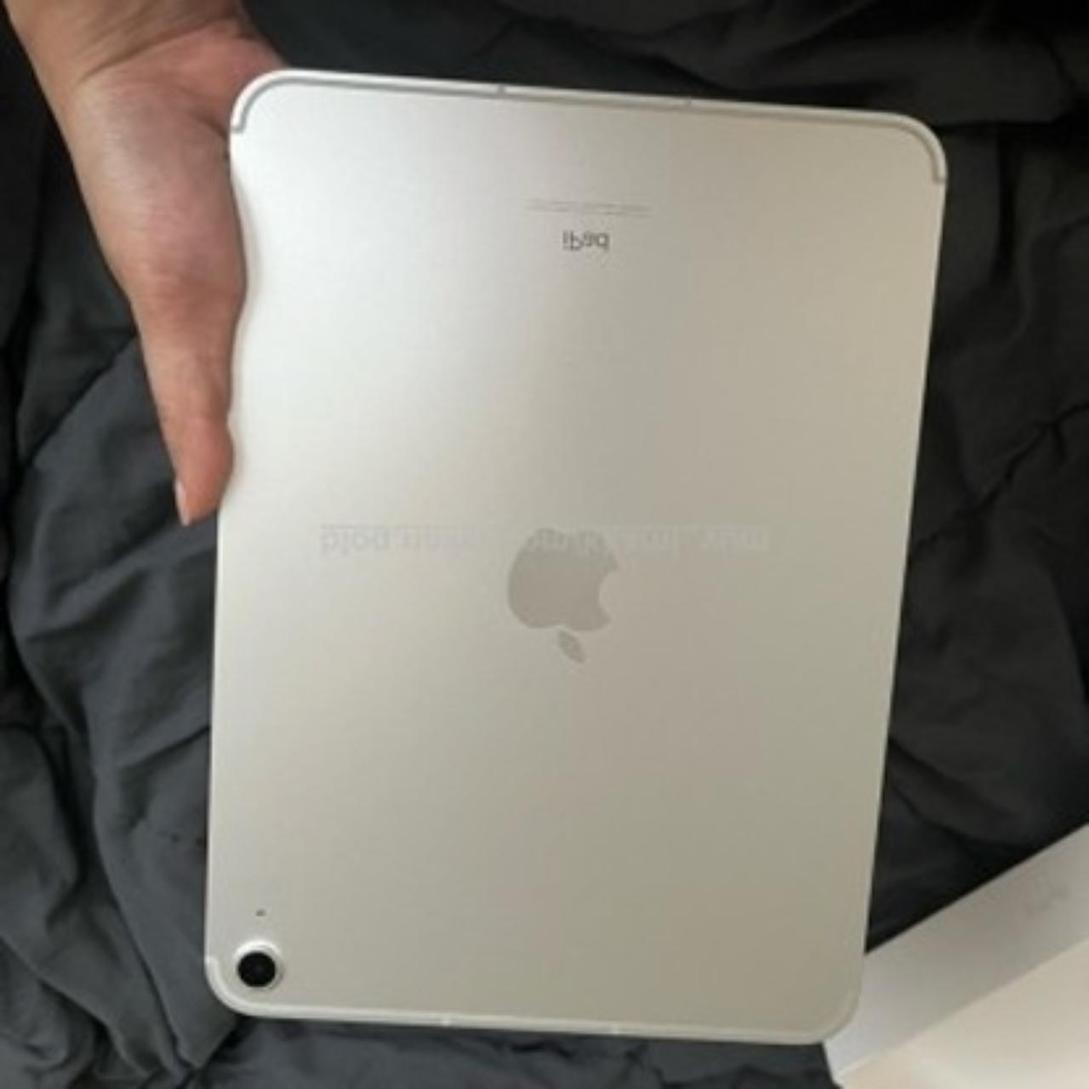Tablet_PC: (181, 58, 966, 1050)
